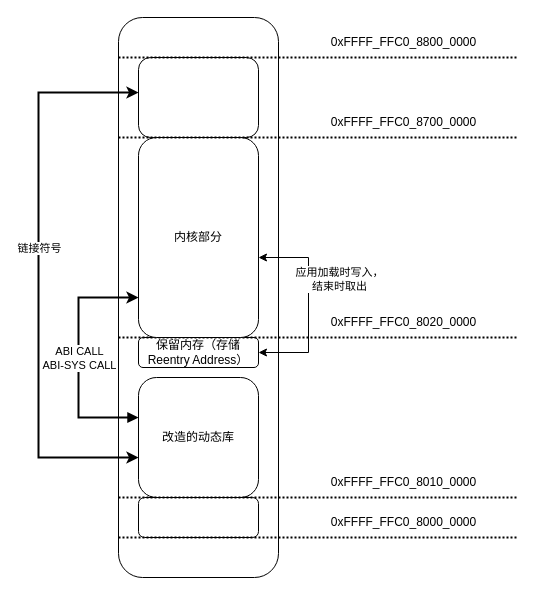
This 538x595 diagram has some shape labels left out. Here are the shapes that lost their labels. From the top down, the centre of each, then its label:
At (198,97): "应用程序".
At (198,517): "SBI".
